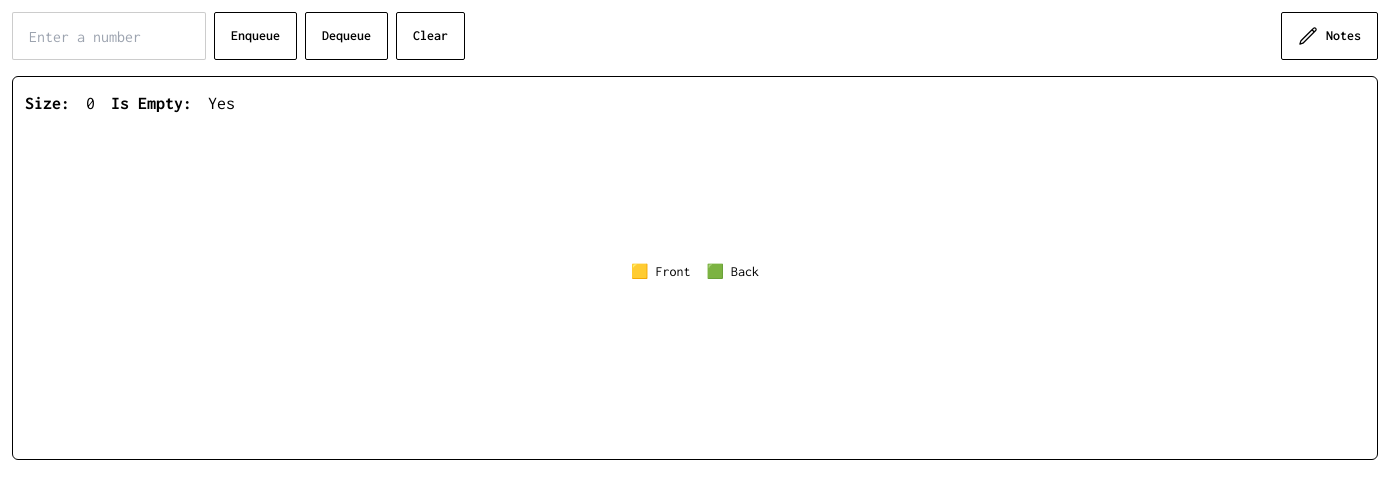
QueuePG › should push value onto queue correctly when user clicks enqueue
Type "1" into the field with test id "num-input" at (109, 36), box [12, 12, 206, 60]
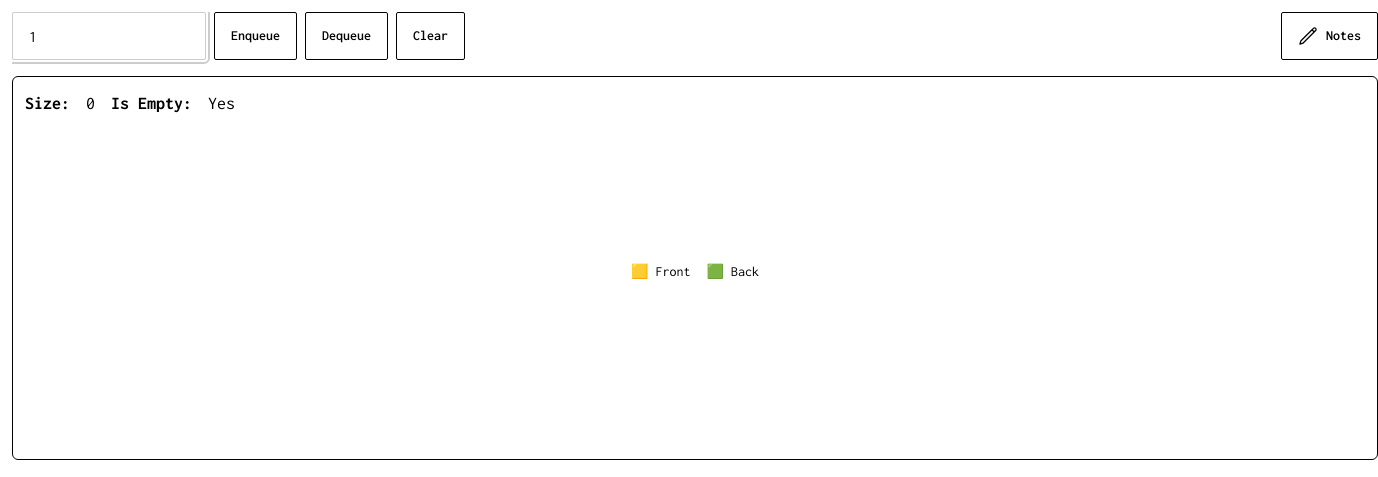
Click the button "Enqueue" at (256, 36), box [214, 12, 297, 60]
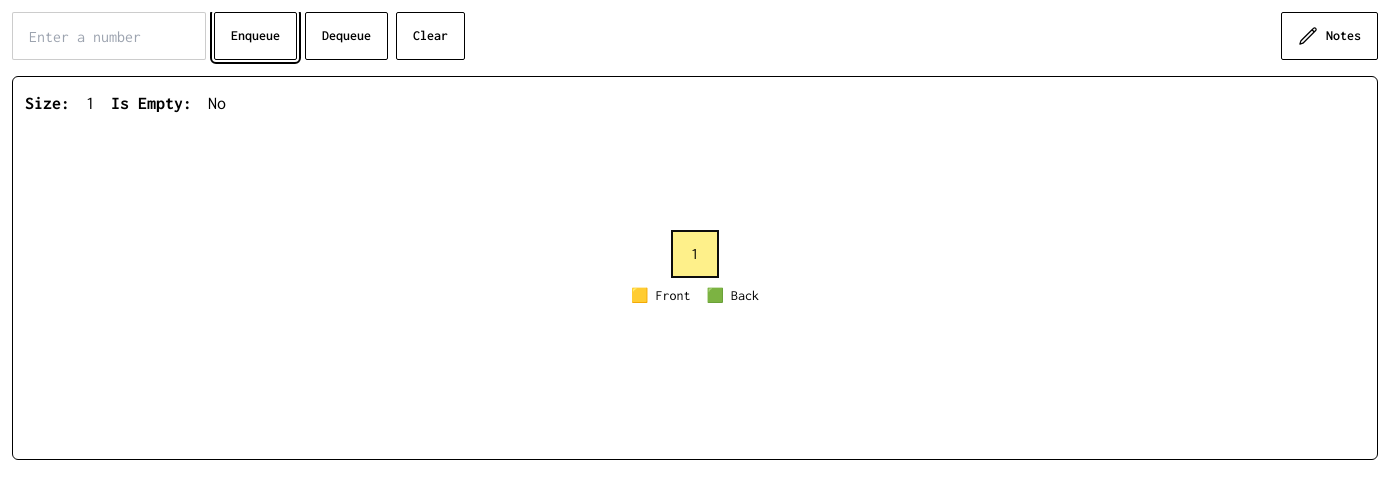
Check: the text with test id "size" reads "1", box [86, 94, 95, 112]
Check: the text with test id "is-empty" reads "No", box [208, 94, 226, 112]
